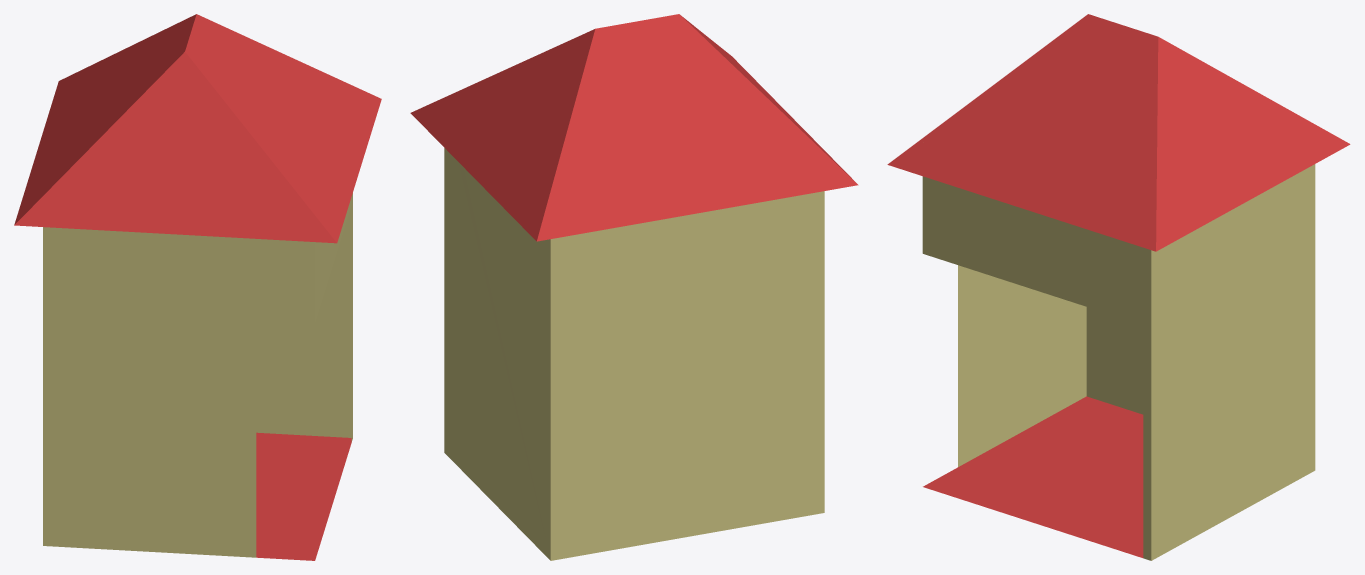
3 renders of one model, left to right at view 1: azimuth 30°, elevation 25°; view 2: azimuth 150°, elevation 25°; view 3: azimuth 270°, elevation 25°, orthographic. The views are drawn at different scales.
Parts seen in each view (by area): view 1: group_5, group_3, group_6, group_4; view 2: group_5, group_3, group_4; view 3: group_5, group_3, group_6, group_4.
Part boxes in pixels (x1,y1,x2,y2): group_5: (43, 193, 352, 557); group_3: (14, 14, 352, 243); group_6: (256, 432, 351, 560); group_4: (59, 68, 381, 242); group_5: (444, 148, 824, 560); group_3: (428, 14, 858, 241); group_4: (410, 96, 593, 241); group_5: (922, 164, 1315, 560); group_3: (922, 14, 1332, 250); group_6: (923, 396, 1143, 557); group_4: (887, 123, 1350, 251).
Size of the model in its own units: 13.7 by 13.8 by 14.81.
